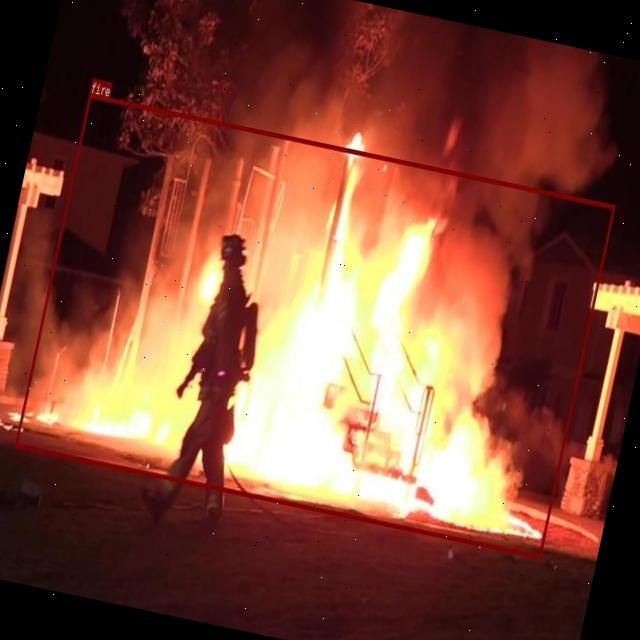fire: (14, 93, 614, 558)
